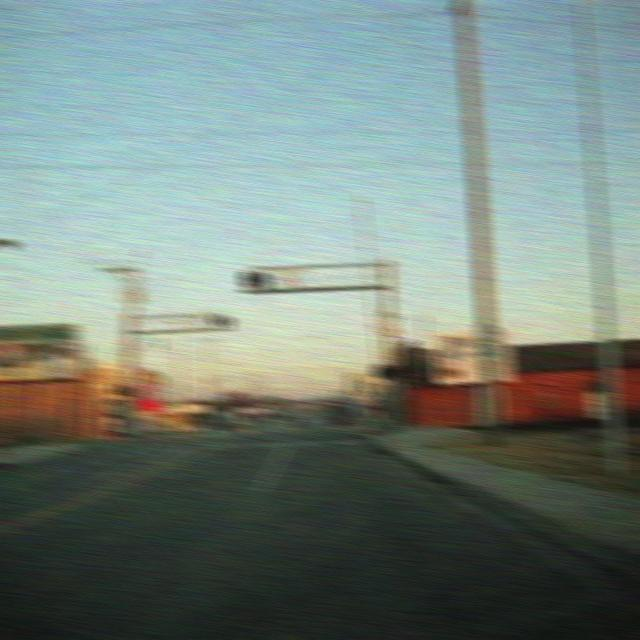speedLimit40: (476, 318, 504, 367)
